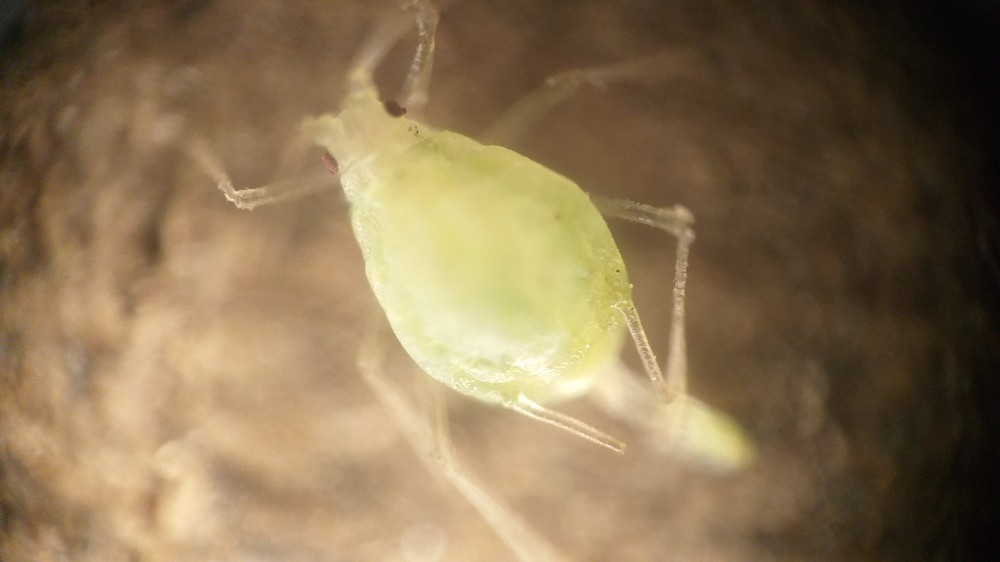Pulgon: (166, 11, 785, 516)
